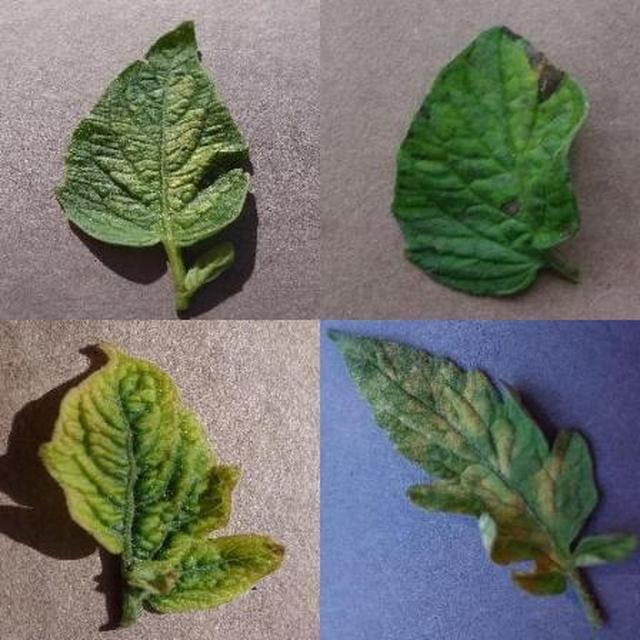Spider Mites Leaf: (220, 190, 640, 640)
